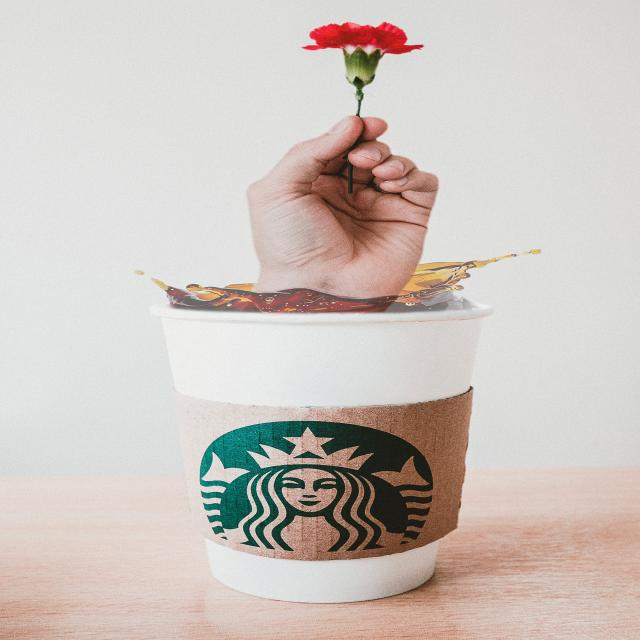cup: (130, 283, 497, 603)
